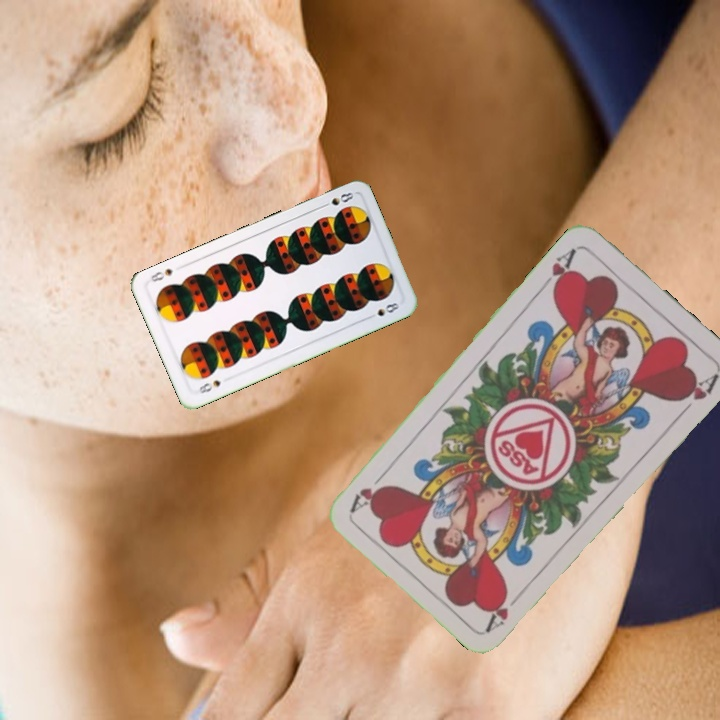HA: (482, 585, 528, 634), (536, 244, 579, 296)
S8: (317, 188, 356, 211), (195, 376, 223, 396)
